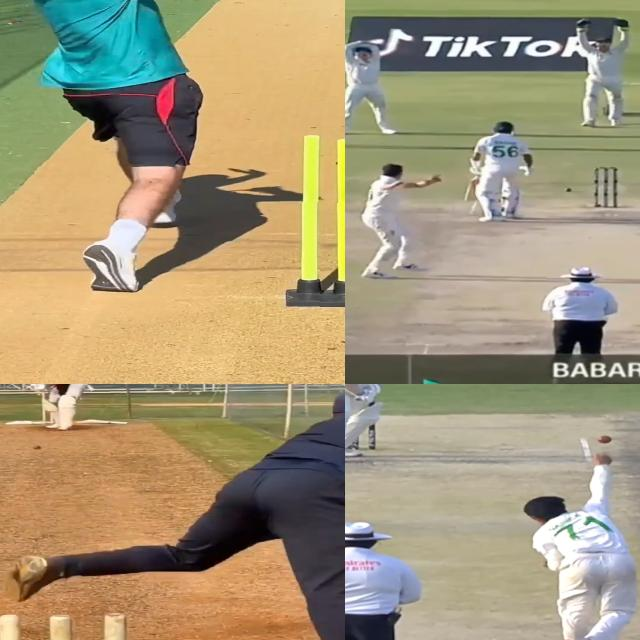Cricket ball: (596, 434, 613, 444), (563, 186, 573, 192), (32, 444, 42, 450)
Stumps: (287, 133, 345, 307), (594, 167, 618, 208)
